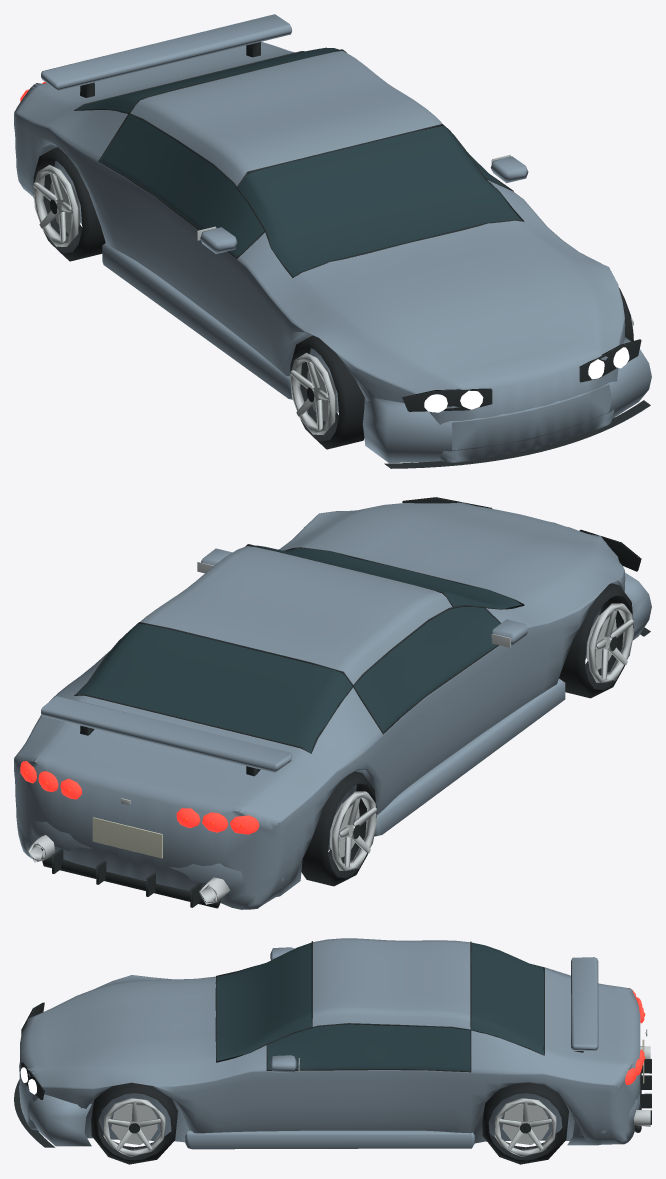
The model's file is arqessa-seyra.glb.
3 views of the same model, one above another, from view 1: azimuth 30°, elevation 25°; view 2: azimuth 150°, elevation 25°; view 3: azimuth 270°, elevation 25° (orthographic). The views are drawn at different scales.
Visible parts, largest first — view 1: scocca, cofano, cristallo_ant, tetto, porta_sx, cristallo_sx, paraurti_ant, spoiler, minigonna_sx, portellone, ruota_ant_sx_gomma, ruota_post_sx_gomma (+14 smaller); view 2: scocca, tetto, cristallo_post, cofano, portellone, porta_sx, cristallo_sx, spoiler, minigonna_sx, cristallo_ant, ruota_post_sx_gomma, ruota_ant_sx_gomma (+12 smaller); view 3: scocca, cofano, tetto, porta_dx, cristallo_dx, cristallo_ant, cristallo_post, portellone, minigonna_dx, spoiler, paraurti_ant, ruota_ant_dx_gomma (+13 smaller).
Boxes of the visible parts, x1=… form: scocca: x1=14, y1=41, x2=625, y2=465; cofano: x1=293, y1=220, x2=603, y2=379; cristallo_ant: x1=238, y1=126, x2=521, y2=276; tetto: x1=130, y1=51, x2=442, y2=185; porta_sx: x1=99, y1=162, x2=252, y2=347; cristallo_sx: x1=100, y1=114, x2=264, y2=257; paraurti_ant: x1=362, y1=337, x2=651, y2=462; spoiler: x1=41, y1=14, x2=292, y2=91; minigonna_sx: x1=102, y1=243, x2=292, y2=399; portellone: x1=28, y1=43, x2=294, y2=110; ruota_ant_sx_gomma: x1=290, y1=335, x2=364, y2=449; ruota_post_sx_gomma: x1=33, y1=147, x2=105, y2=261; scocca: x1=14, y1=502, x2=625, y2=909; tetto: x1=140, y1=546, x2=452, y2=684; cristallo_post: x1=76, y1=623, x2=352, y2=752; cofano: x1=296, y1=503, x2=603, y2=605; portellone: x1=28, y1=695, x2=310, y2=814; porta_sx: x1=377, y1=638, x2=524, y2=815; cristallo_sx: x1=354, y1=606, x2=500, y2=732; spoiler: x1=41, y1=696, x2=292, y2=772; minigonna_sx: x1=374, y1=678, x2=565, y2=836; cristallo_ant: x1=256, y1=545, x2=521, y2=608; ruota_post_sx_gomma: x1=301, y1=771, x2=376, y2=886; ruota_ant_sx_gomma: x1=559, y1=583, x2=633, y2=698; scocca: x1=19, y1=967, x2=640, y2=1144; cofano: x1=42, y1=977, x2=215, y2=1073; tetto: x1=312, y1=938, x2=470, y2=1029; porta_dx: x1=251, y1=1070, x2=470, y2=1133; cristallo_dx: x1=267, y1=1024, x2=470, y2=1070; cristallo_ant: x1=216, y1=942, x2=311, y2=1061; cristallo_post: x1=471, y1=942, x2=543, y2=1054; portellone: x1=544, y1=968, x2=640, y2=1069; minigonna_dx: x1=185, y1=1130, x2=474, y2=1149; spoiler: x1=571, y1=957, x2=598, y2=1050; paraurti_ant: x1=19, y1=1062, x2=91, y2=1146; ruota_ant_dx_gomma: x1=91, y1=1082, x2=177, y2=1164.
Bounding box in the file's own units: 2.15 × 1.19 × 4.96.
